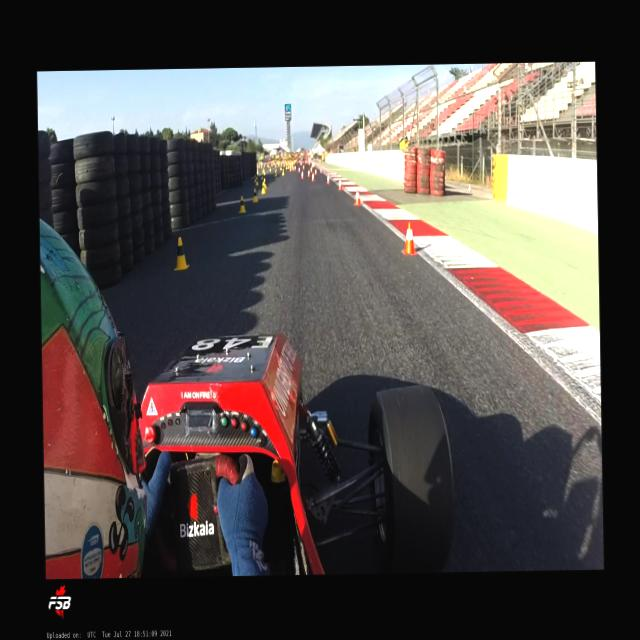orange_cone: (400, 221, 418, 256), (353, 188, 361, 206), (337, 178, 342, 190), (310, 171, 315, 182), (300, 170, 304, 180), (326, 174, 330, 184), (306, 168, 310, 177), (319, 166, 322, 174), (314, 168, 316, 175)
yellow_cone: (172, 236, 190, 271), (238, 194, 246, 213), (252, 188, 258, 202), (260, 182, 266, 195), (262, 178, 266, 188), (255, 176, 259, 185), (253, 174, 256, 182), (263, 168, 266, 175), (282, 168, 284, 176), (274, 170, 276, 177)
